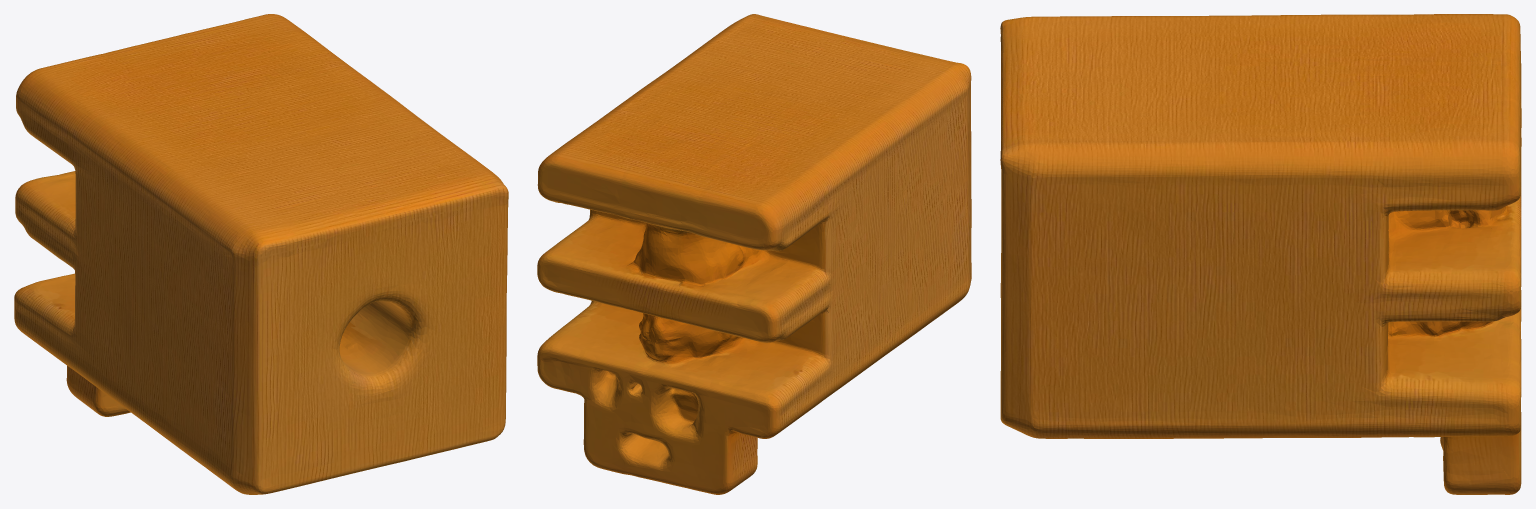
Rendered from asset_0003.glb.
3 renders of one model, left to right at view 1: azimuth 30°, elevation 25°; view 2: azimuth 150°, elevation 25°; view 3: azimuth 270°, elevation 25°, orthographic. The views are drawn at different scales.
Visible parts, largest first — view 1: slfoqu__link_textured_mesh__visuals__orange_block_toy_slfoqu; view 2: slfoqu__link_textured_mesh__visuals__orange_block_toy_slfoqu; view 3: slfoqu__link_textured_mesh__visuals__orange_block_toy_slfoqu.
Boxes of the visible parts, left/top/right/bottom form: slfoqu__link_textured_mesh__visuals__orange_block_toy_slfoqu: left=14, top=14, right=508, bottom=494; slfoqu__link_textured_mesh__visuals__orange_block_toy_slfoqu: left=537, top=14, right=971, bottom=494; slfoqu__link_textured_mesh__visuals__orange_block_toy_slfoqu: left=1000, top=14, right=1521, bottom=494.
Bounding box in the file's own units: 0.0231 × 0.0275 × 0.0341.
Materials: 1 (1 with a texture image).
